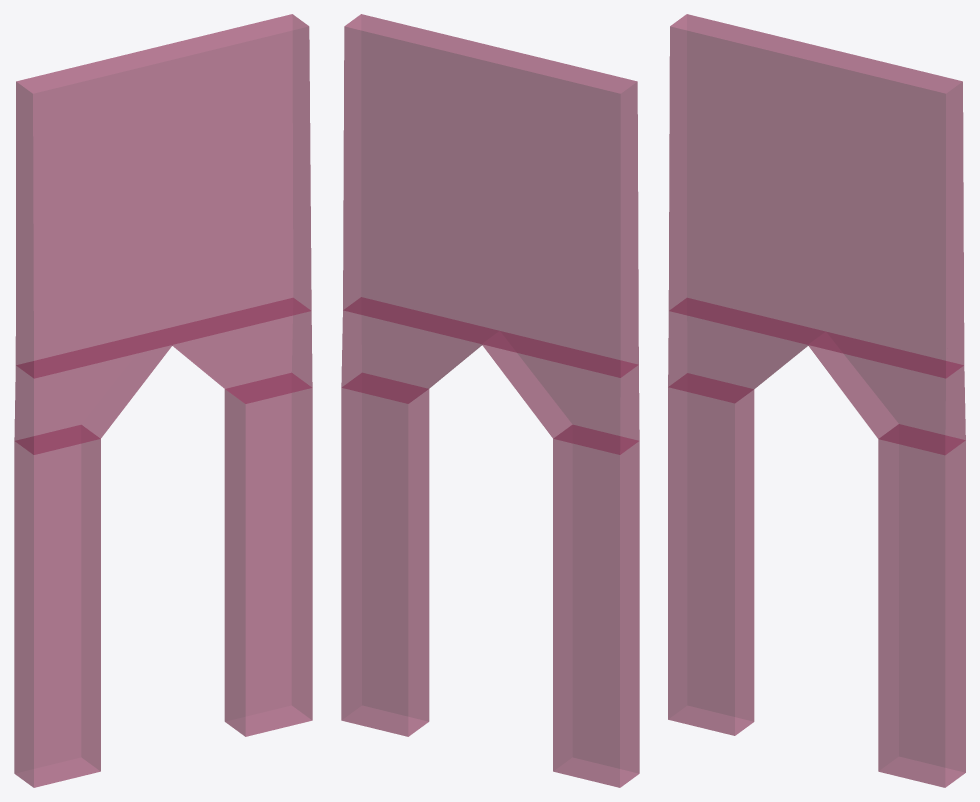
The model's file is SM_Bld_Wall_Arch_02_Collision.fbx.
3 views of the same model, side by side, from view 1: azimuth 30°, elevation 25°; view 2: azimuth 150°, elevation 25°; view 3: azimuth 330°, elevation 25° (orthographic).
Visible parts, largest first — view 1: SM_Bld_Wall_Arch_02_Collision; view 2: SM_Bld_Wall_Arch_02_Collision; view 3: SM_Bld_Wall_Arch_02_Collision.
Boxes of the visible parts, <box> form: SM_Bld_Wall_Arch_02_Collision: <box>14,14,312,787</box>; SM_Bld_Wall_Arch_02_Collision: <box>341,14,639,787</box>; SM_Bld_Wall_Arch_02_Collision: <box>668,14,965,787</box>.
Size of the model in its own units: 253 by 603 by 32.74.
